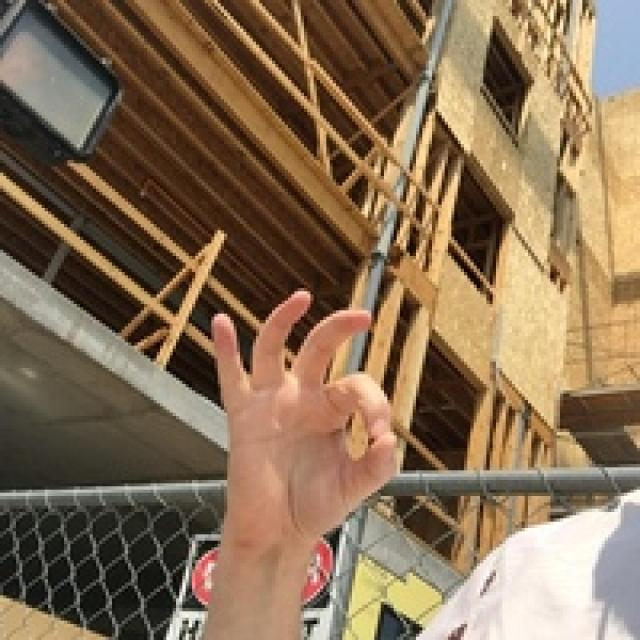F: (184, 202, 458, 591)
